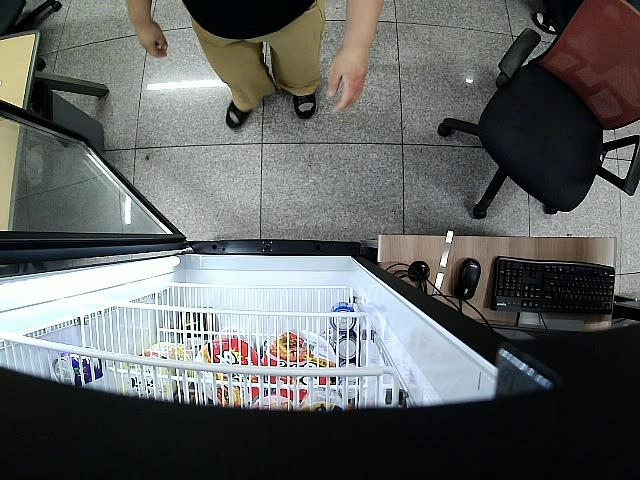00_hand: (326, 49, 367, 111), (137, 21, 167, 58)
